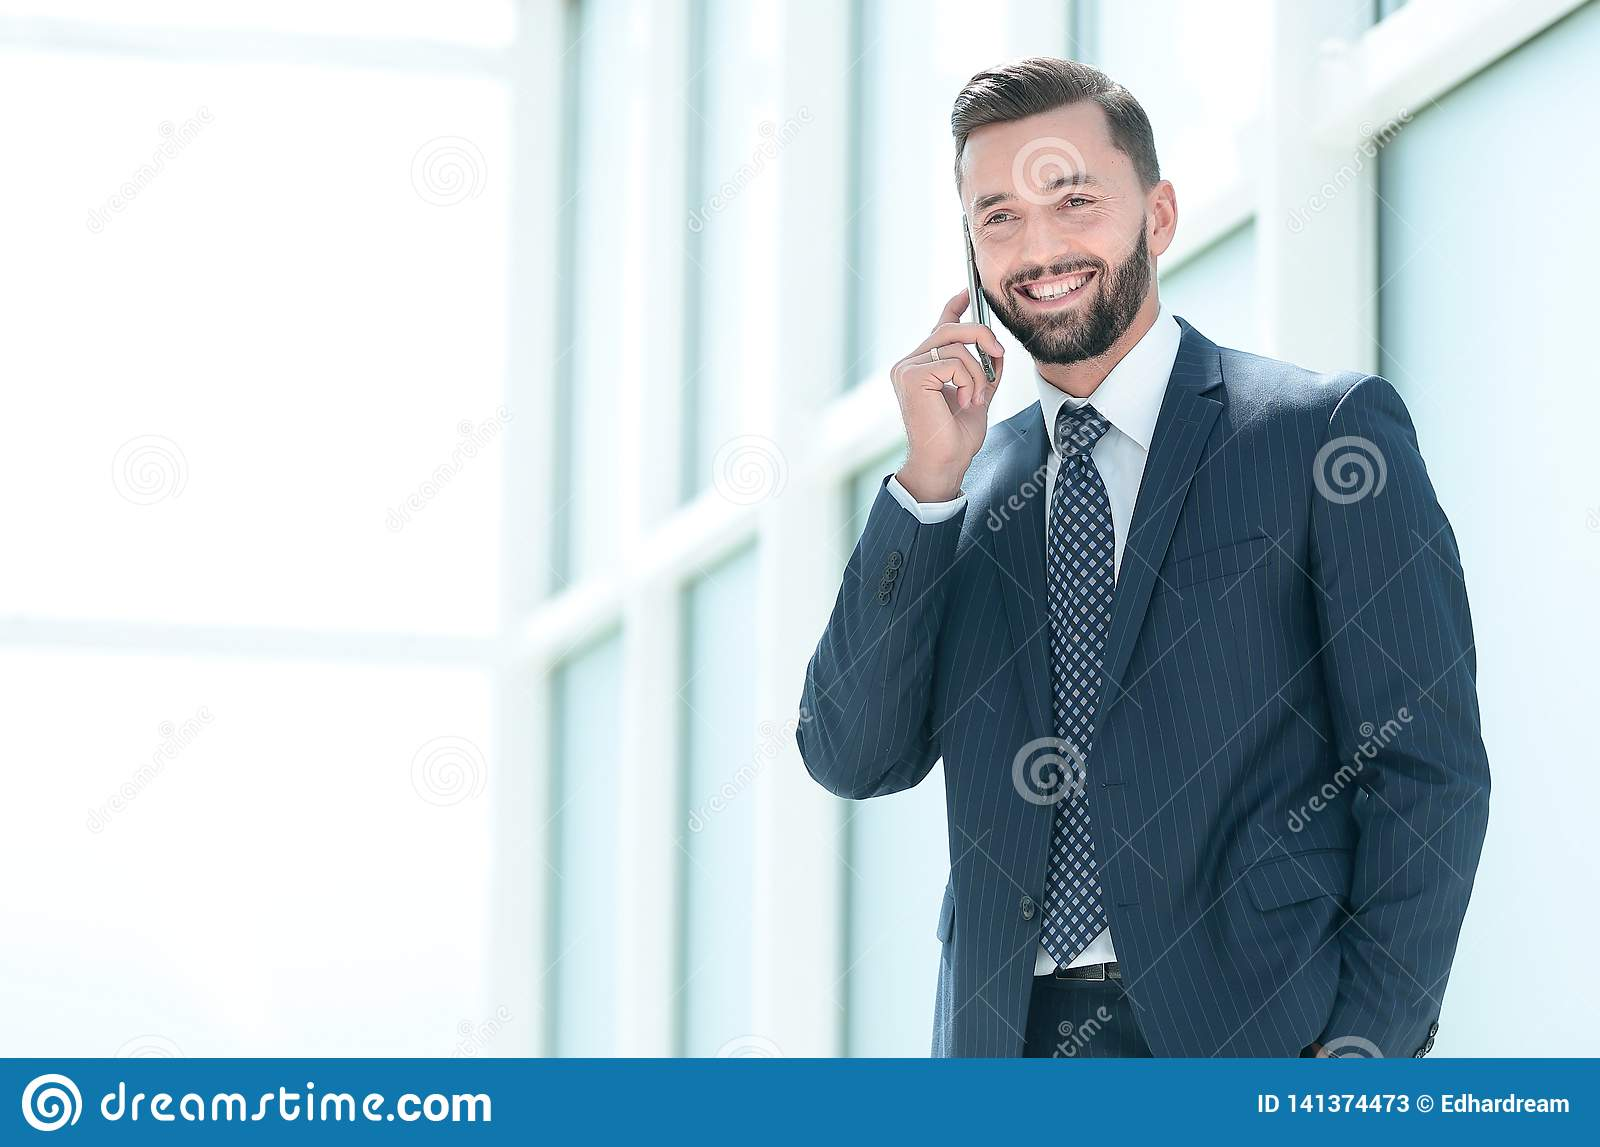phone: (950, 204, 1002, 398)
talk: (885, 153, 1130, 482)
